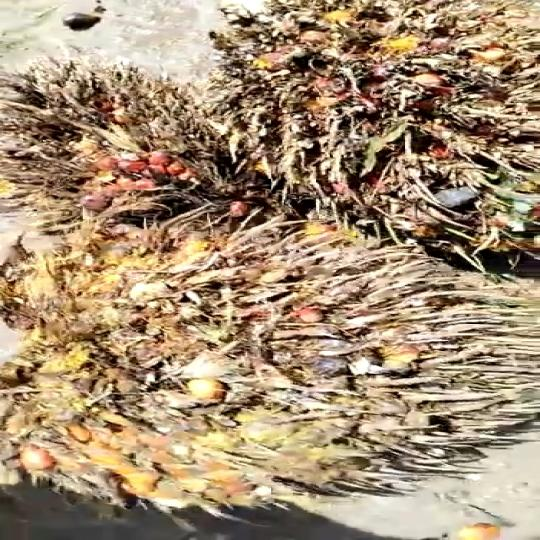terlalu masak: (0, 227, 529, 498), (209, 0, 540, 222), (0, 65, 201, 236)
